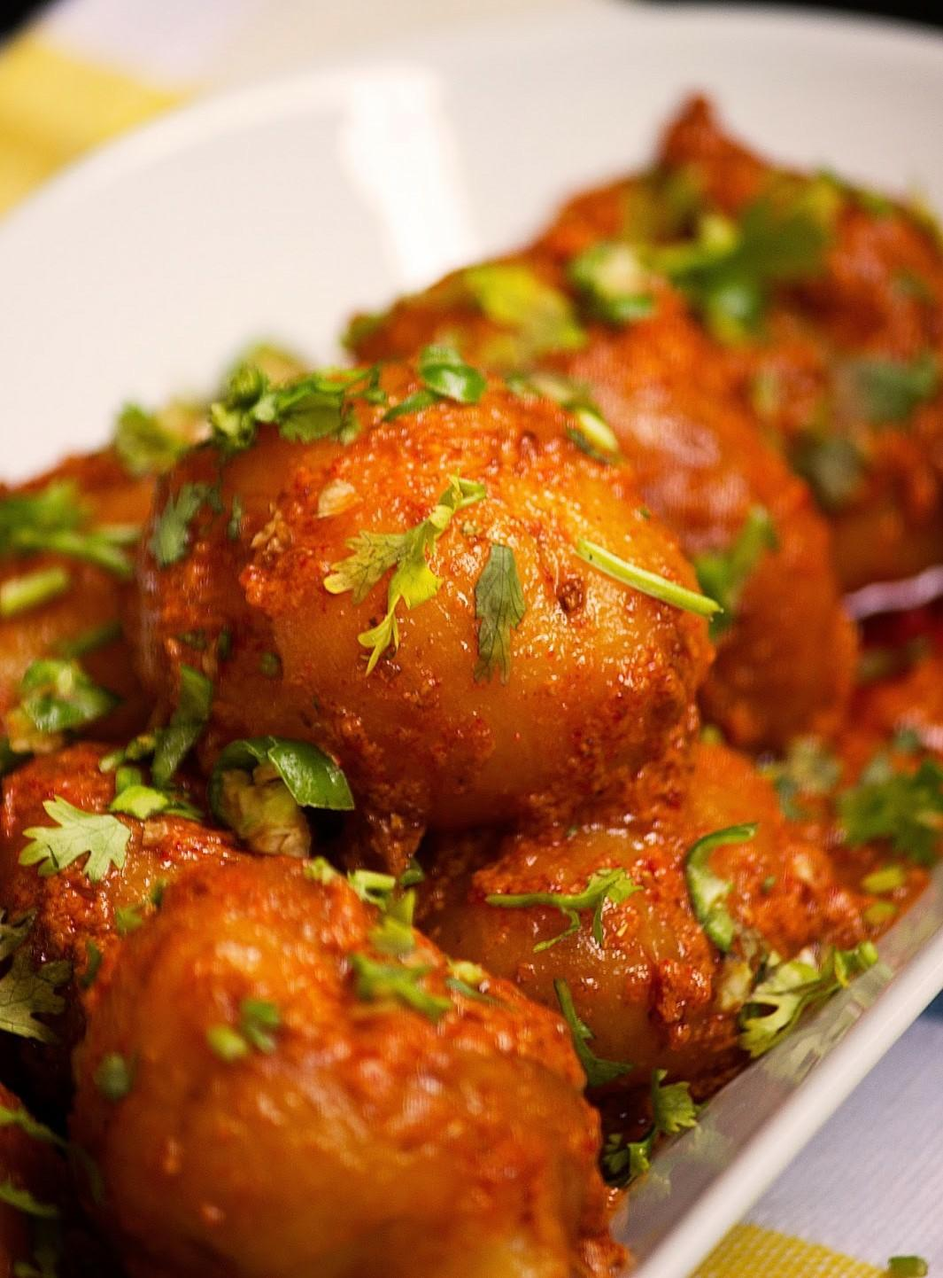DumAloo: (1, 0, 943, 1278)
